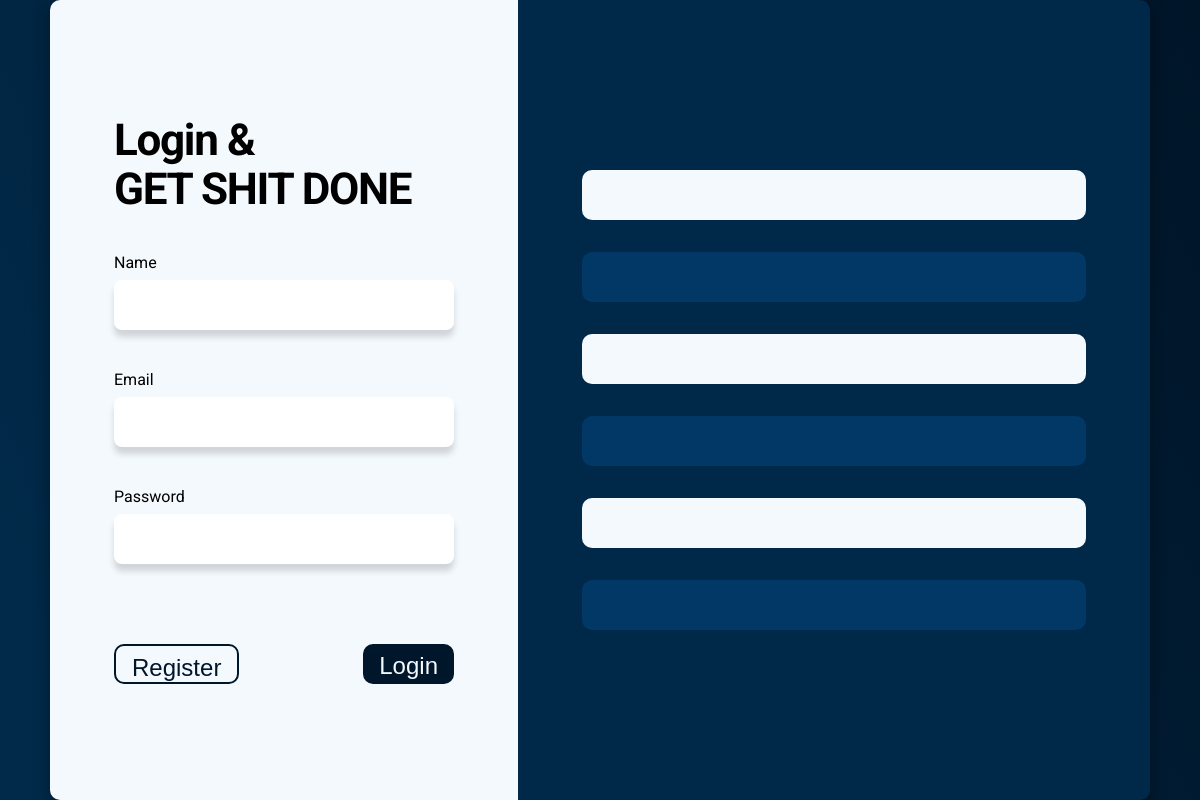
Test case: login › check logout
Check: the password field labelled "Password" is shown, box [114, 514, 454, 564]
Check: the button with class "login-btn" is shown, box [363, 644, 454, 684]
Step 1. Type "test@user.de" into the field with id "email" → coordinates (284, 422), box [114, 397, 454, 447]
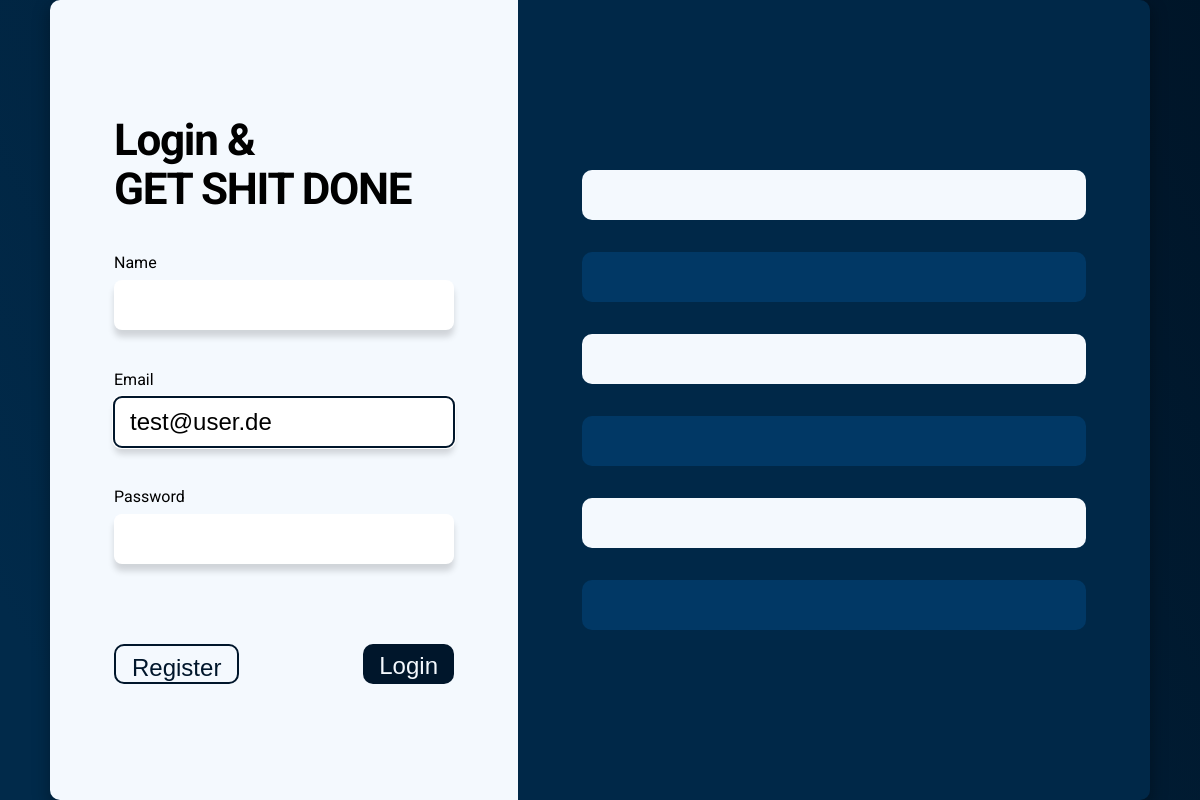
Step 2. Type "123" into the password field labelled "Password" → coordinates (284, 539), box [114, 514, 454, 564]
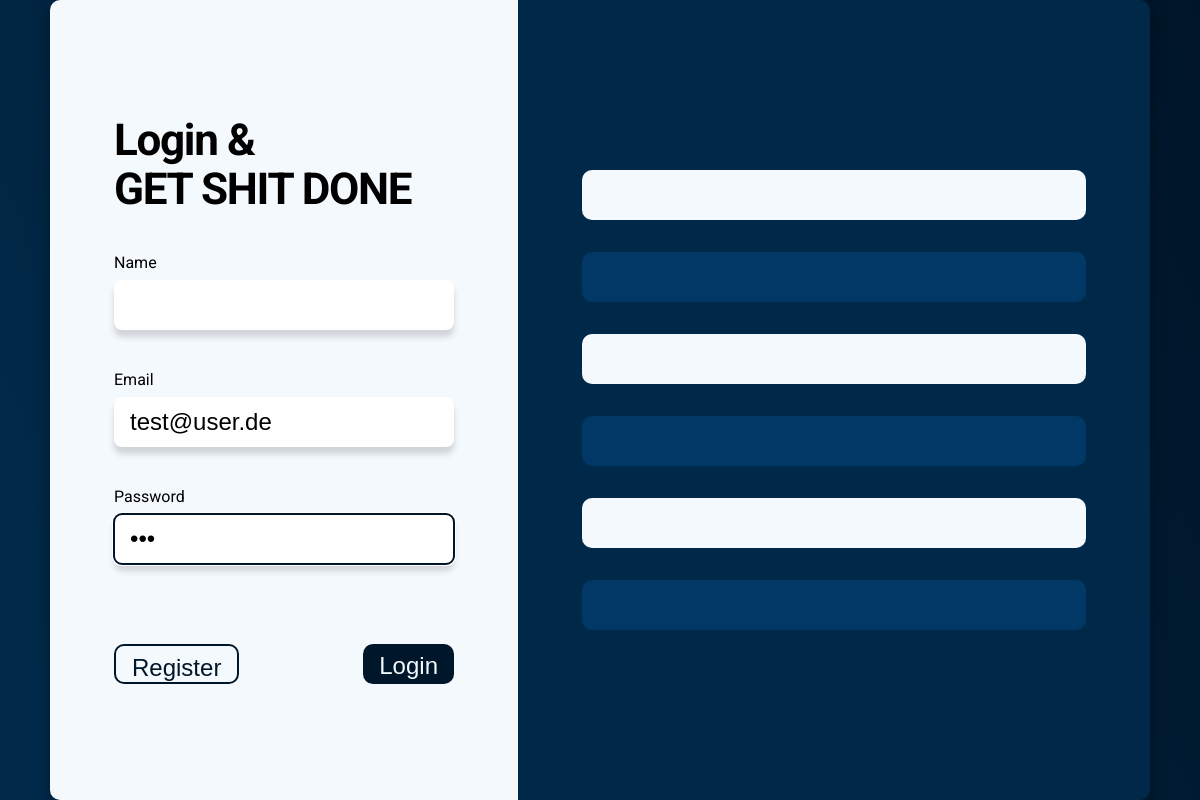
Step 3. Click the button with class "login-btn" → coordinates (409, 664), box [363, 644, 454, 684]
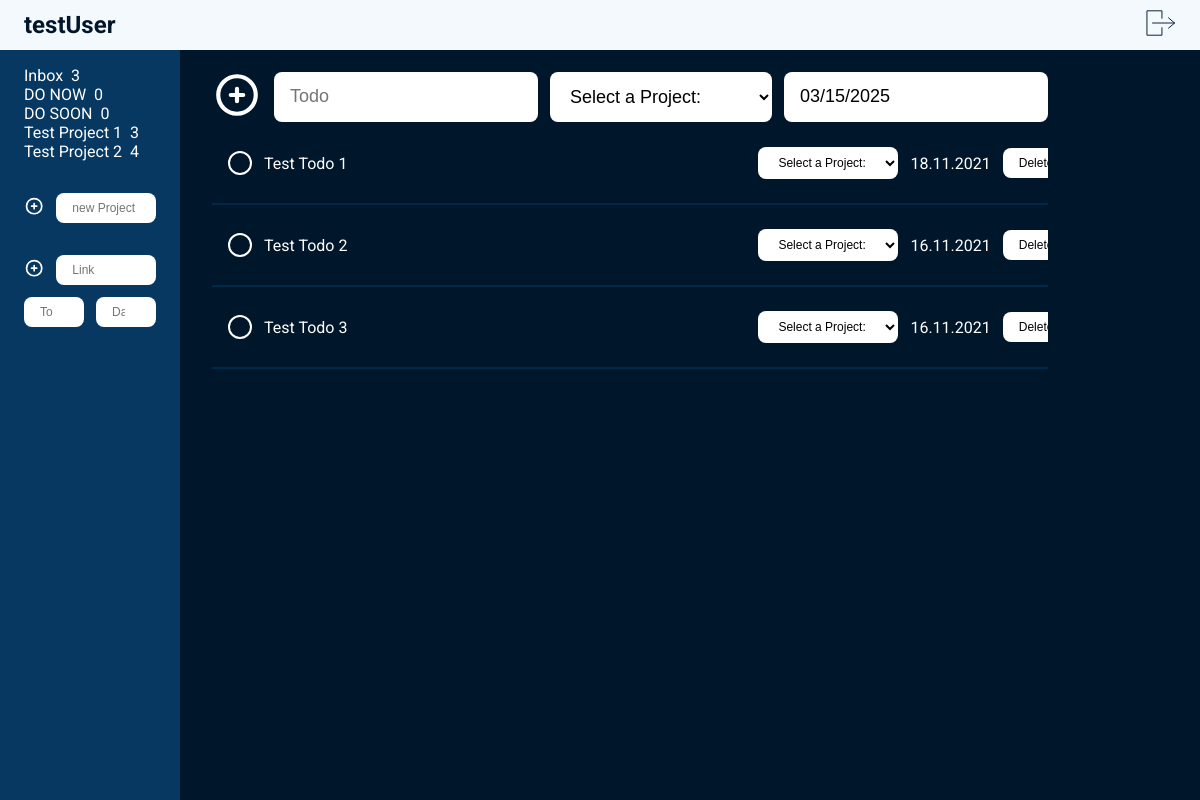
Check: the button with class "login-btn" is gone
Check: the 2nd element with test id "logout" is shown
Step 4. Click the 2nd element with test id "logout" → coordinates (1161, 25), box [1146, 8, 1176, 42]
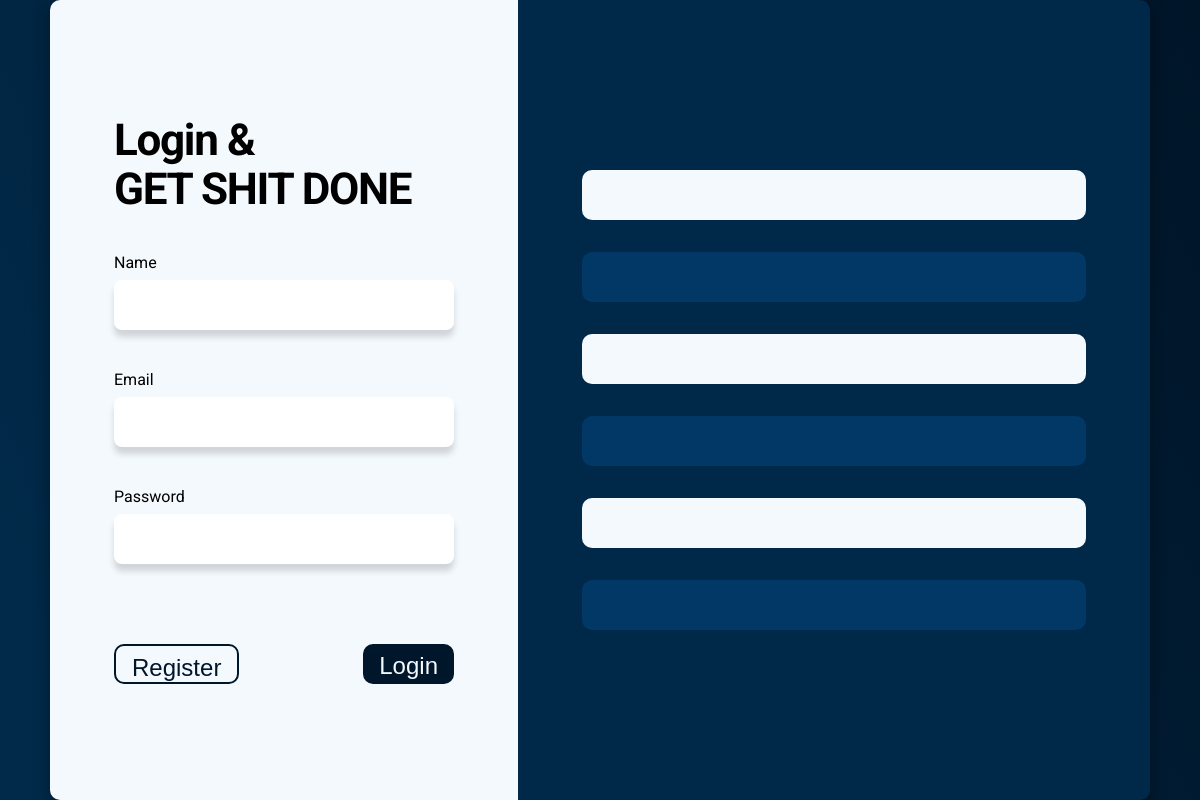
Check: the field with id "email" is shown, box [114, 397, 454, 447]
Check: the password field labelled "Password" is shown, box [114, 514, 454, 564]
